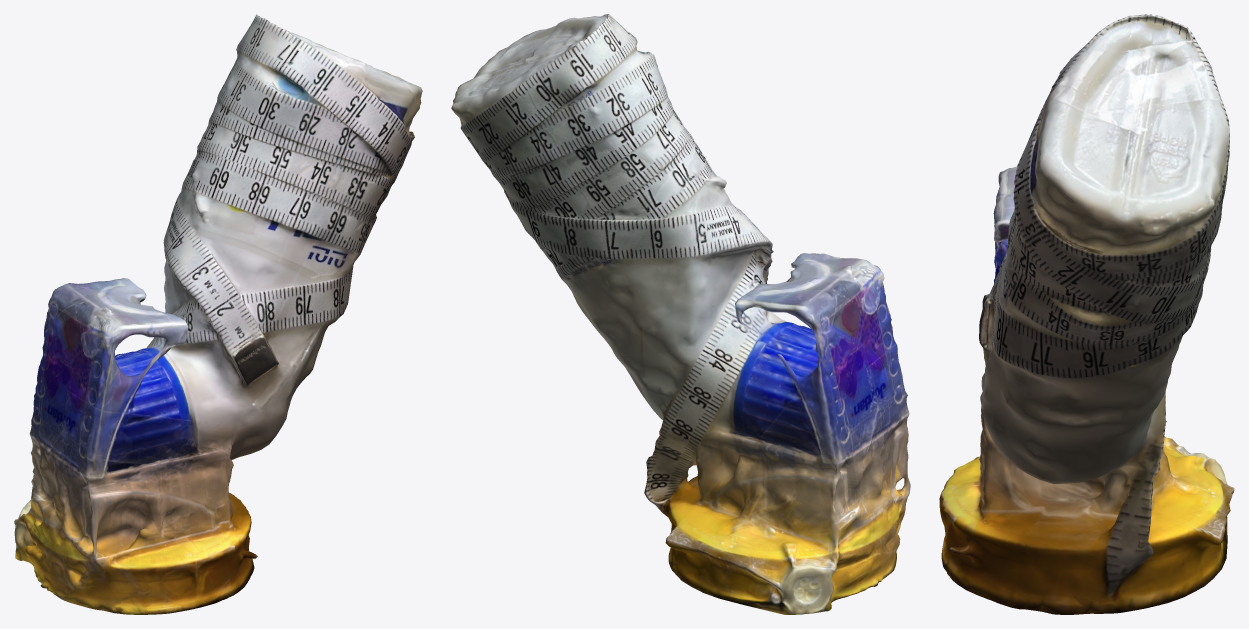
3 views of the same model, side by side, from view 1: azimuth 30°, elevation 25°; view 2: azimuth 150°, elevation 25°; view 3: azimuth 270°, elevation 25° (orthographic). The views are drawn at different scales.
Parts seen in each view (by area): view 1: P9; view 2: P9; view 3: P9.
Part boxes in pixels (<box>): P9: <box>14,14,422,614</box>; P9: <box>451,14,910,614</box>; P9: <box>939,14,1234,614</box>.
Size of the model in its own units: 0.4829 by 0.5977 by 0.2516.
Materials: 1 (1 with a texture image).
